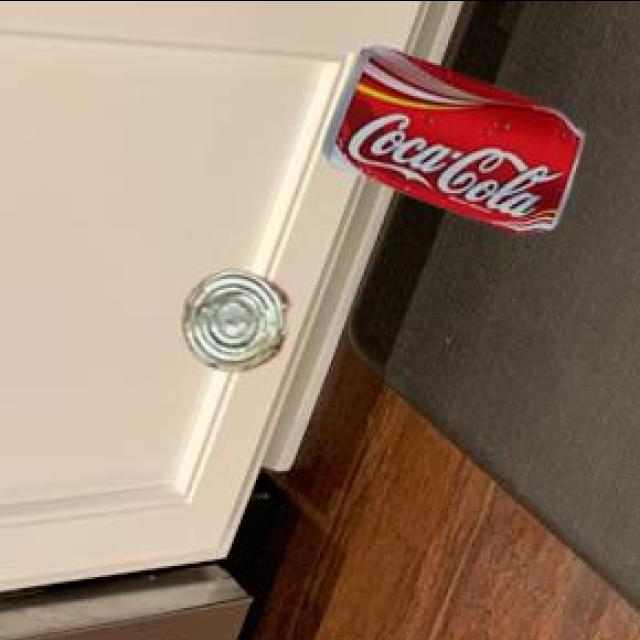logam: (321, 50, 582, 235), (180, 275, 284, 372)
